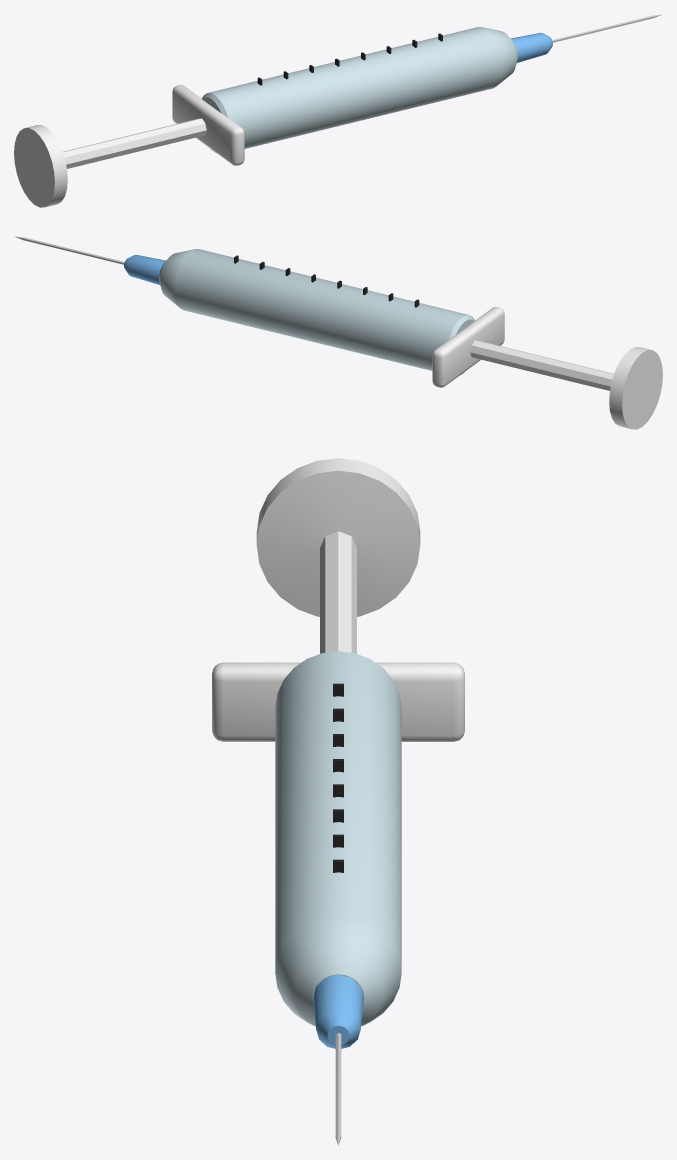
The model's file is SM_Adrenaline.fbx.
The picture shows the model from 3 angles, top to bottom: view 1: azimuth 30°, elevation 25°; view 2: azimuth 150°, elevation 25°; view 3: azimuth 270°, elevation 25°; orthographic projection. The views are drawn at different scales.
Visible parts, largest first — view 1: SM_Adrenaline; view 2: SM_Adrenaline; view 3: SM_Adrenaline.
Boxes of the visible parts, <box> form: SM_Adrenaline: <box>14,14,661,207</box>; SM_Adrenaline: <box>15,236,662,429</box>; SM_Adrenaline: <box>212,458,464,1145</box>.
Size of the model in its own units: 0.034 by 0.195 by 0.022.
